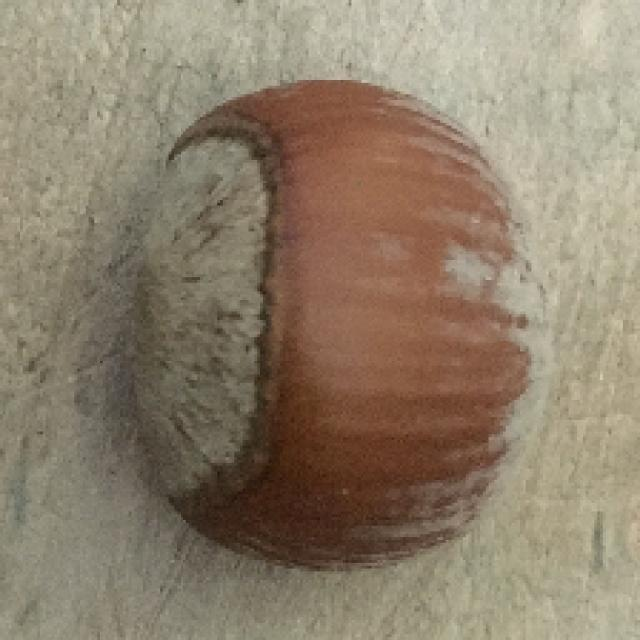qualityHazelnut: (125, 80, 551, 568)
